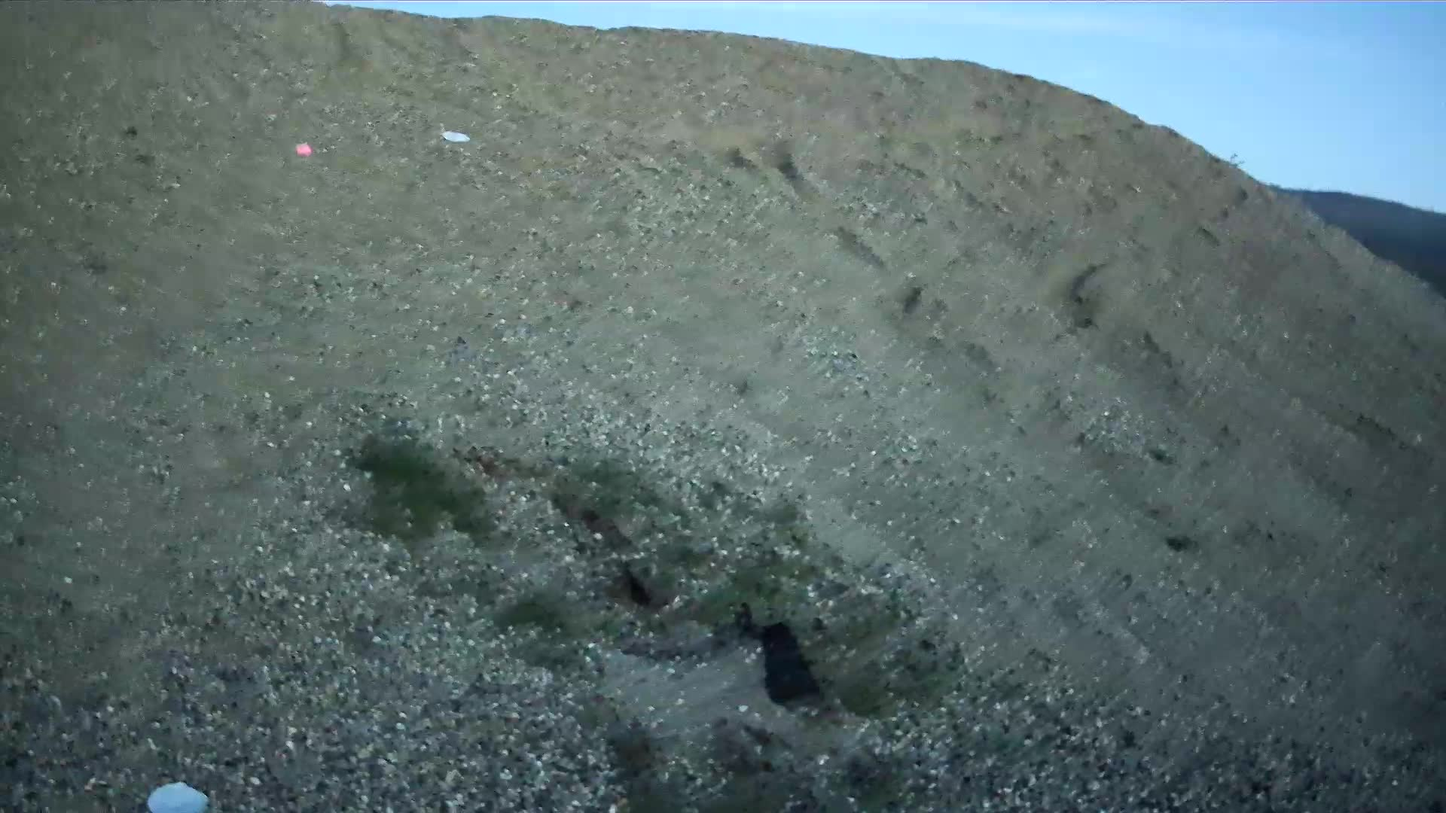Target: (140, 782, 209, 813)
